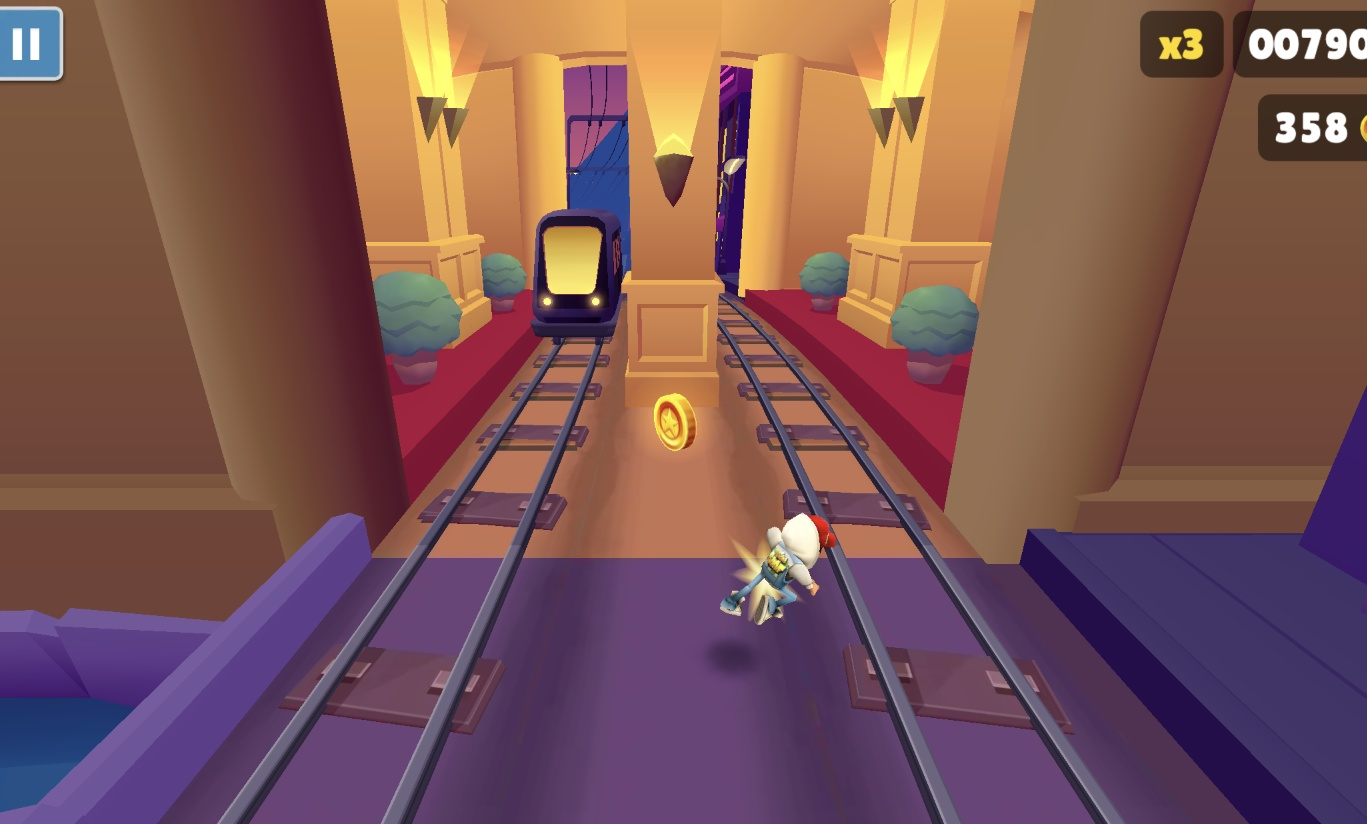pillar: (620, 0, 725, 410)
train: (527, 209, 624, 344)
